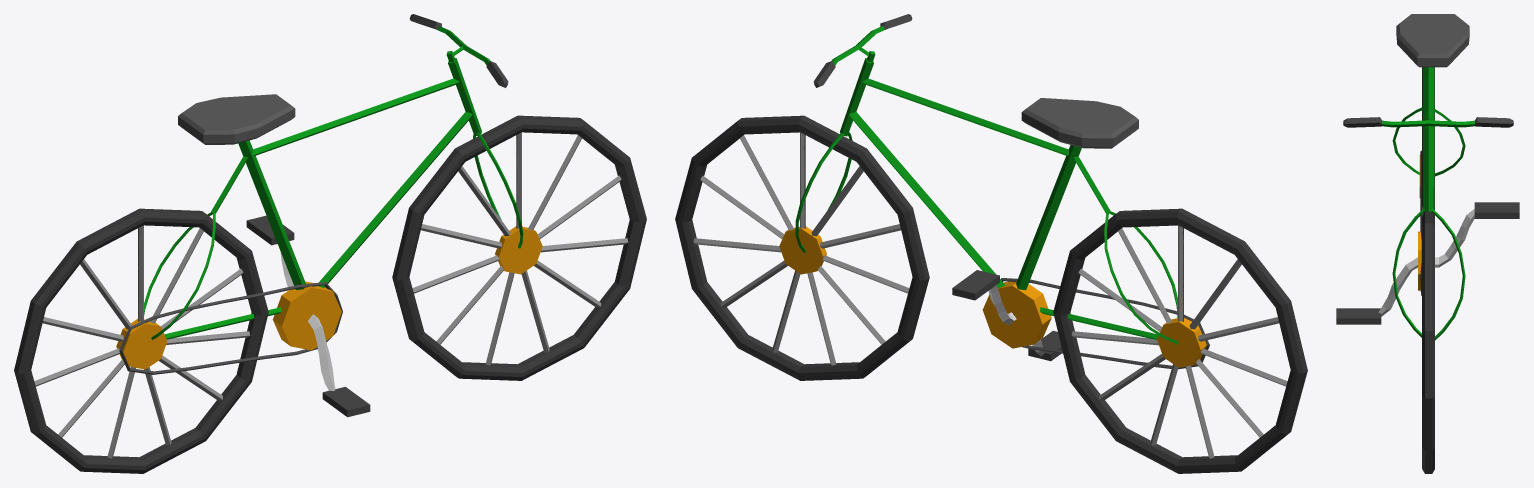
Rendered from bike.fbx.
3 renders of one model, left to right at view 1: azimuth 30°, elevation 25°; view 2: azimuth 150°, elevation 25°; view 3: azimuth 270°, elevation 25°, orthographic. The views are drawn at different scales.
Parts seen in each view (by area): view 1: Cylinder.002; view 2: Cylinder.002; view 3: Cylinder.002.
Boxes of the visible parts, x1=… form: Cylinder.002: x1=14, y1=14, x2=646, y2=473; Cylinder.002: x1=675, y1=14, x2=1307, y2=473; Cylinder.002: x1=1336, y1=14, x2=1519, y2=473.
Bounding box in the file's own units: 883 × 473 × 245.
